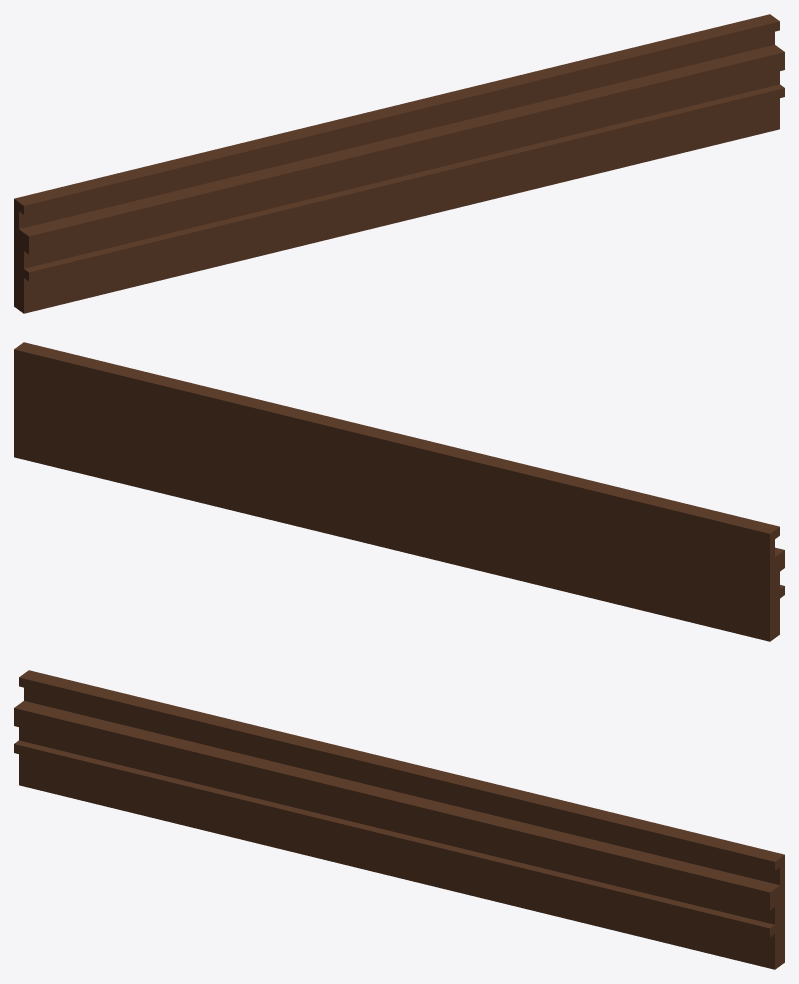
Rendered from plintus.obj.
The picture shows the model from 3 angles, top to bottom: view 1: azimuth 30°, elevation 25°; view 2: azimuth 150°, elevation 25°; view 3: azimuth 330°, elevation 25°; orthographic projection.
Bounding box in the file's own units: 8.8 × 1.2 × 0.3.
1 material, 1 textured.
